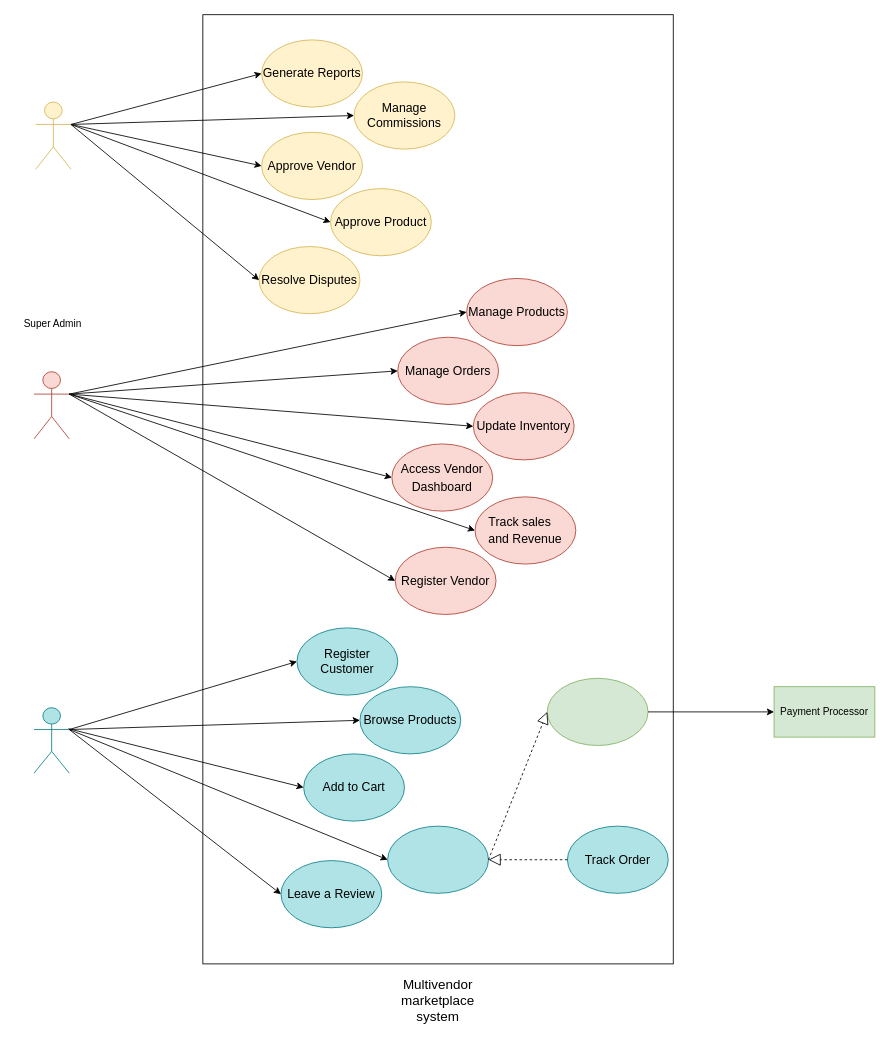
Image size: 890x1039. Some labels were removed from this diagram. The box of each missing label's shape, as (x1, y1, x2, y2) in pixels:
Admin: (35, 101, 71, 169)
Checkout and Payment: (387, 825, 488, 893)
Customer: (33, 707, 69, 773)
Process Payments: (546, 677, 648, 746)
Vendor: (33, 371, 69, 439)
